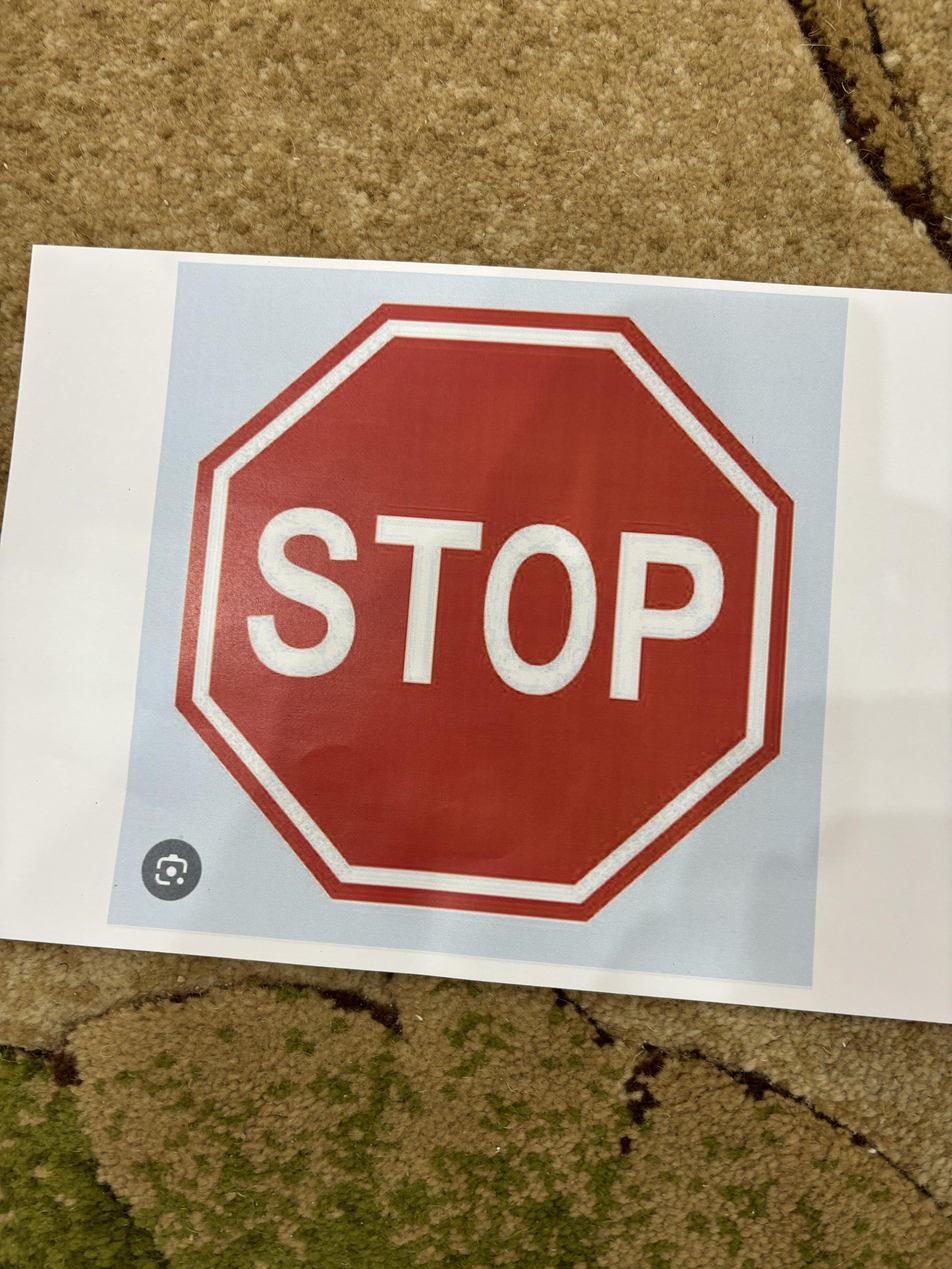Stop: (170, 305, 812, 924)
